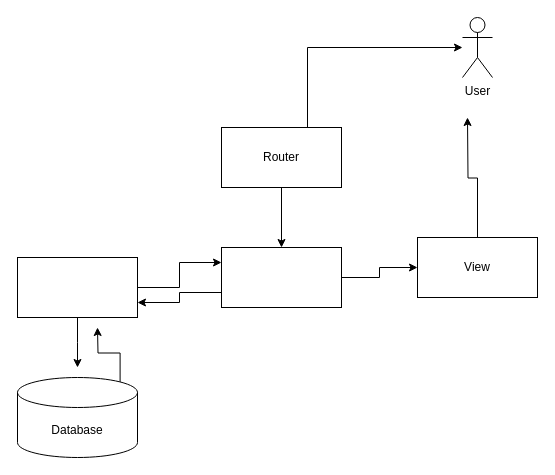
The diagram is 555 pixels wide and 475 high, and some of its shapes have lost their labels. Each missing label, with the centre of its shape:
Controller: [281,277]
Model: [77,287]
